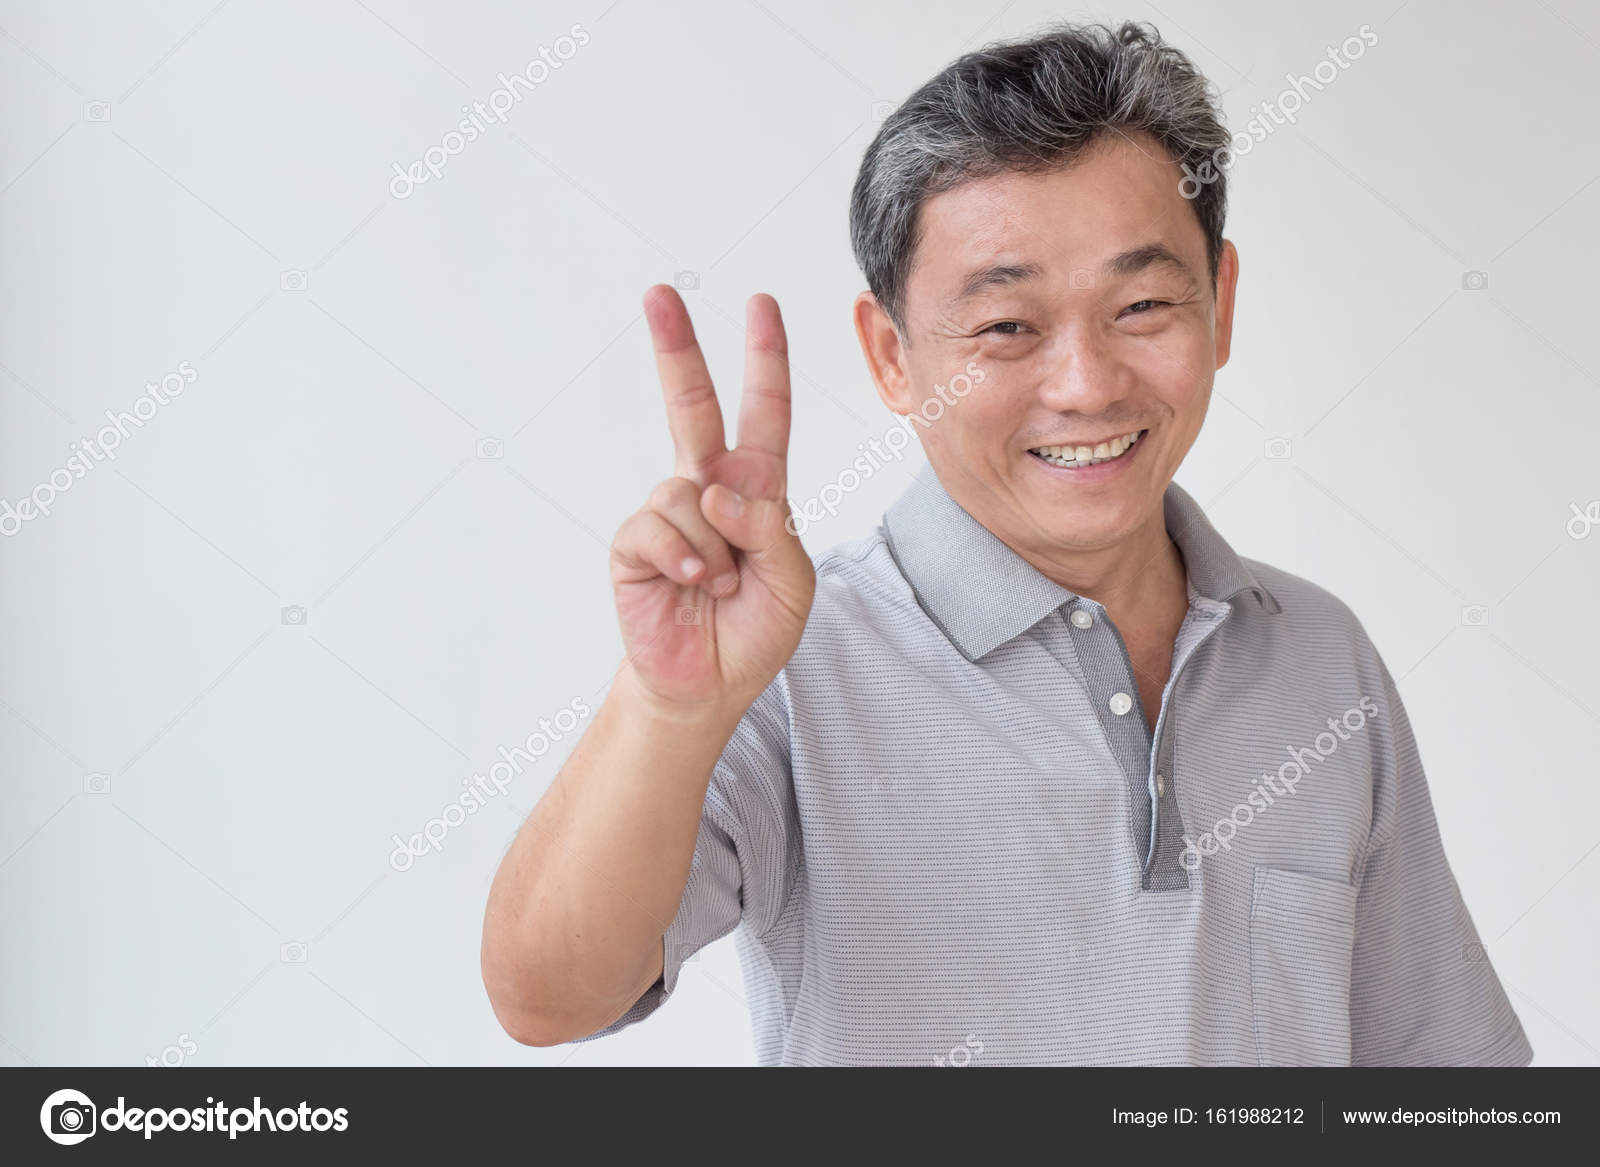v_s: (590, 263, 841, 718)
